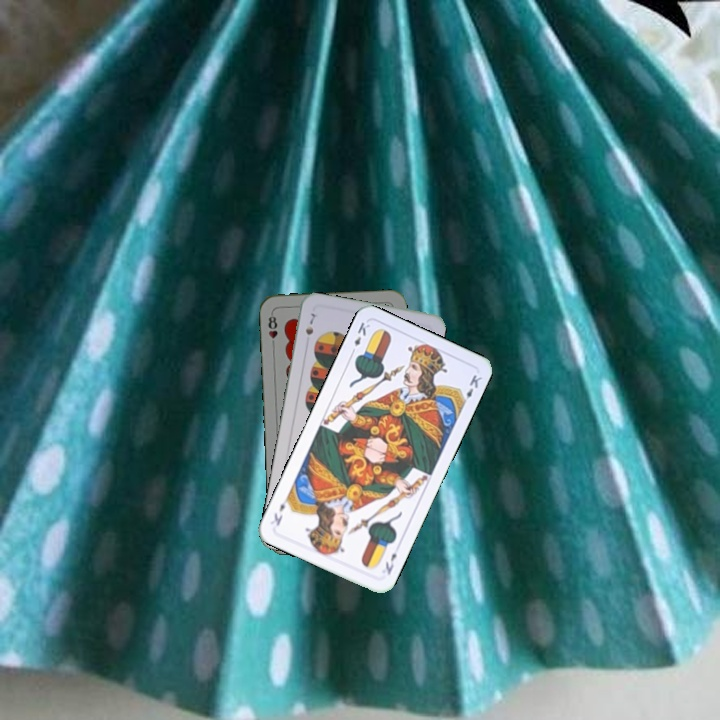EK: (347, 318, 372, 357), (381, 549, 399, 577)
H8: (264, 309, 280, 350)
S7: (301, 307, 320, 337)
